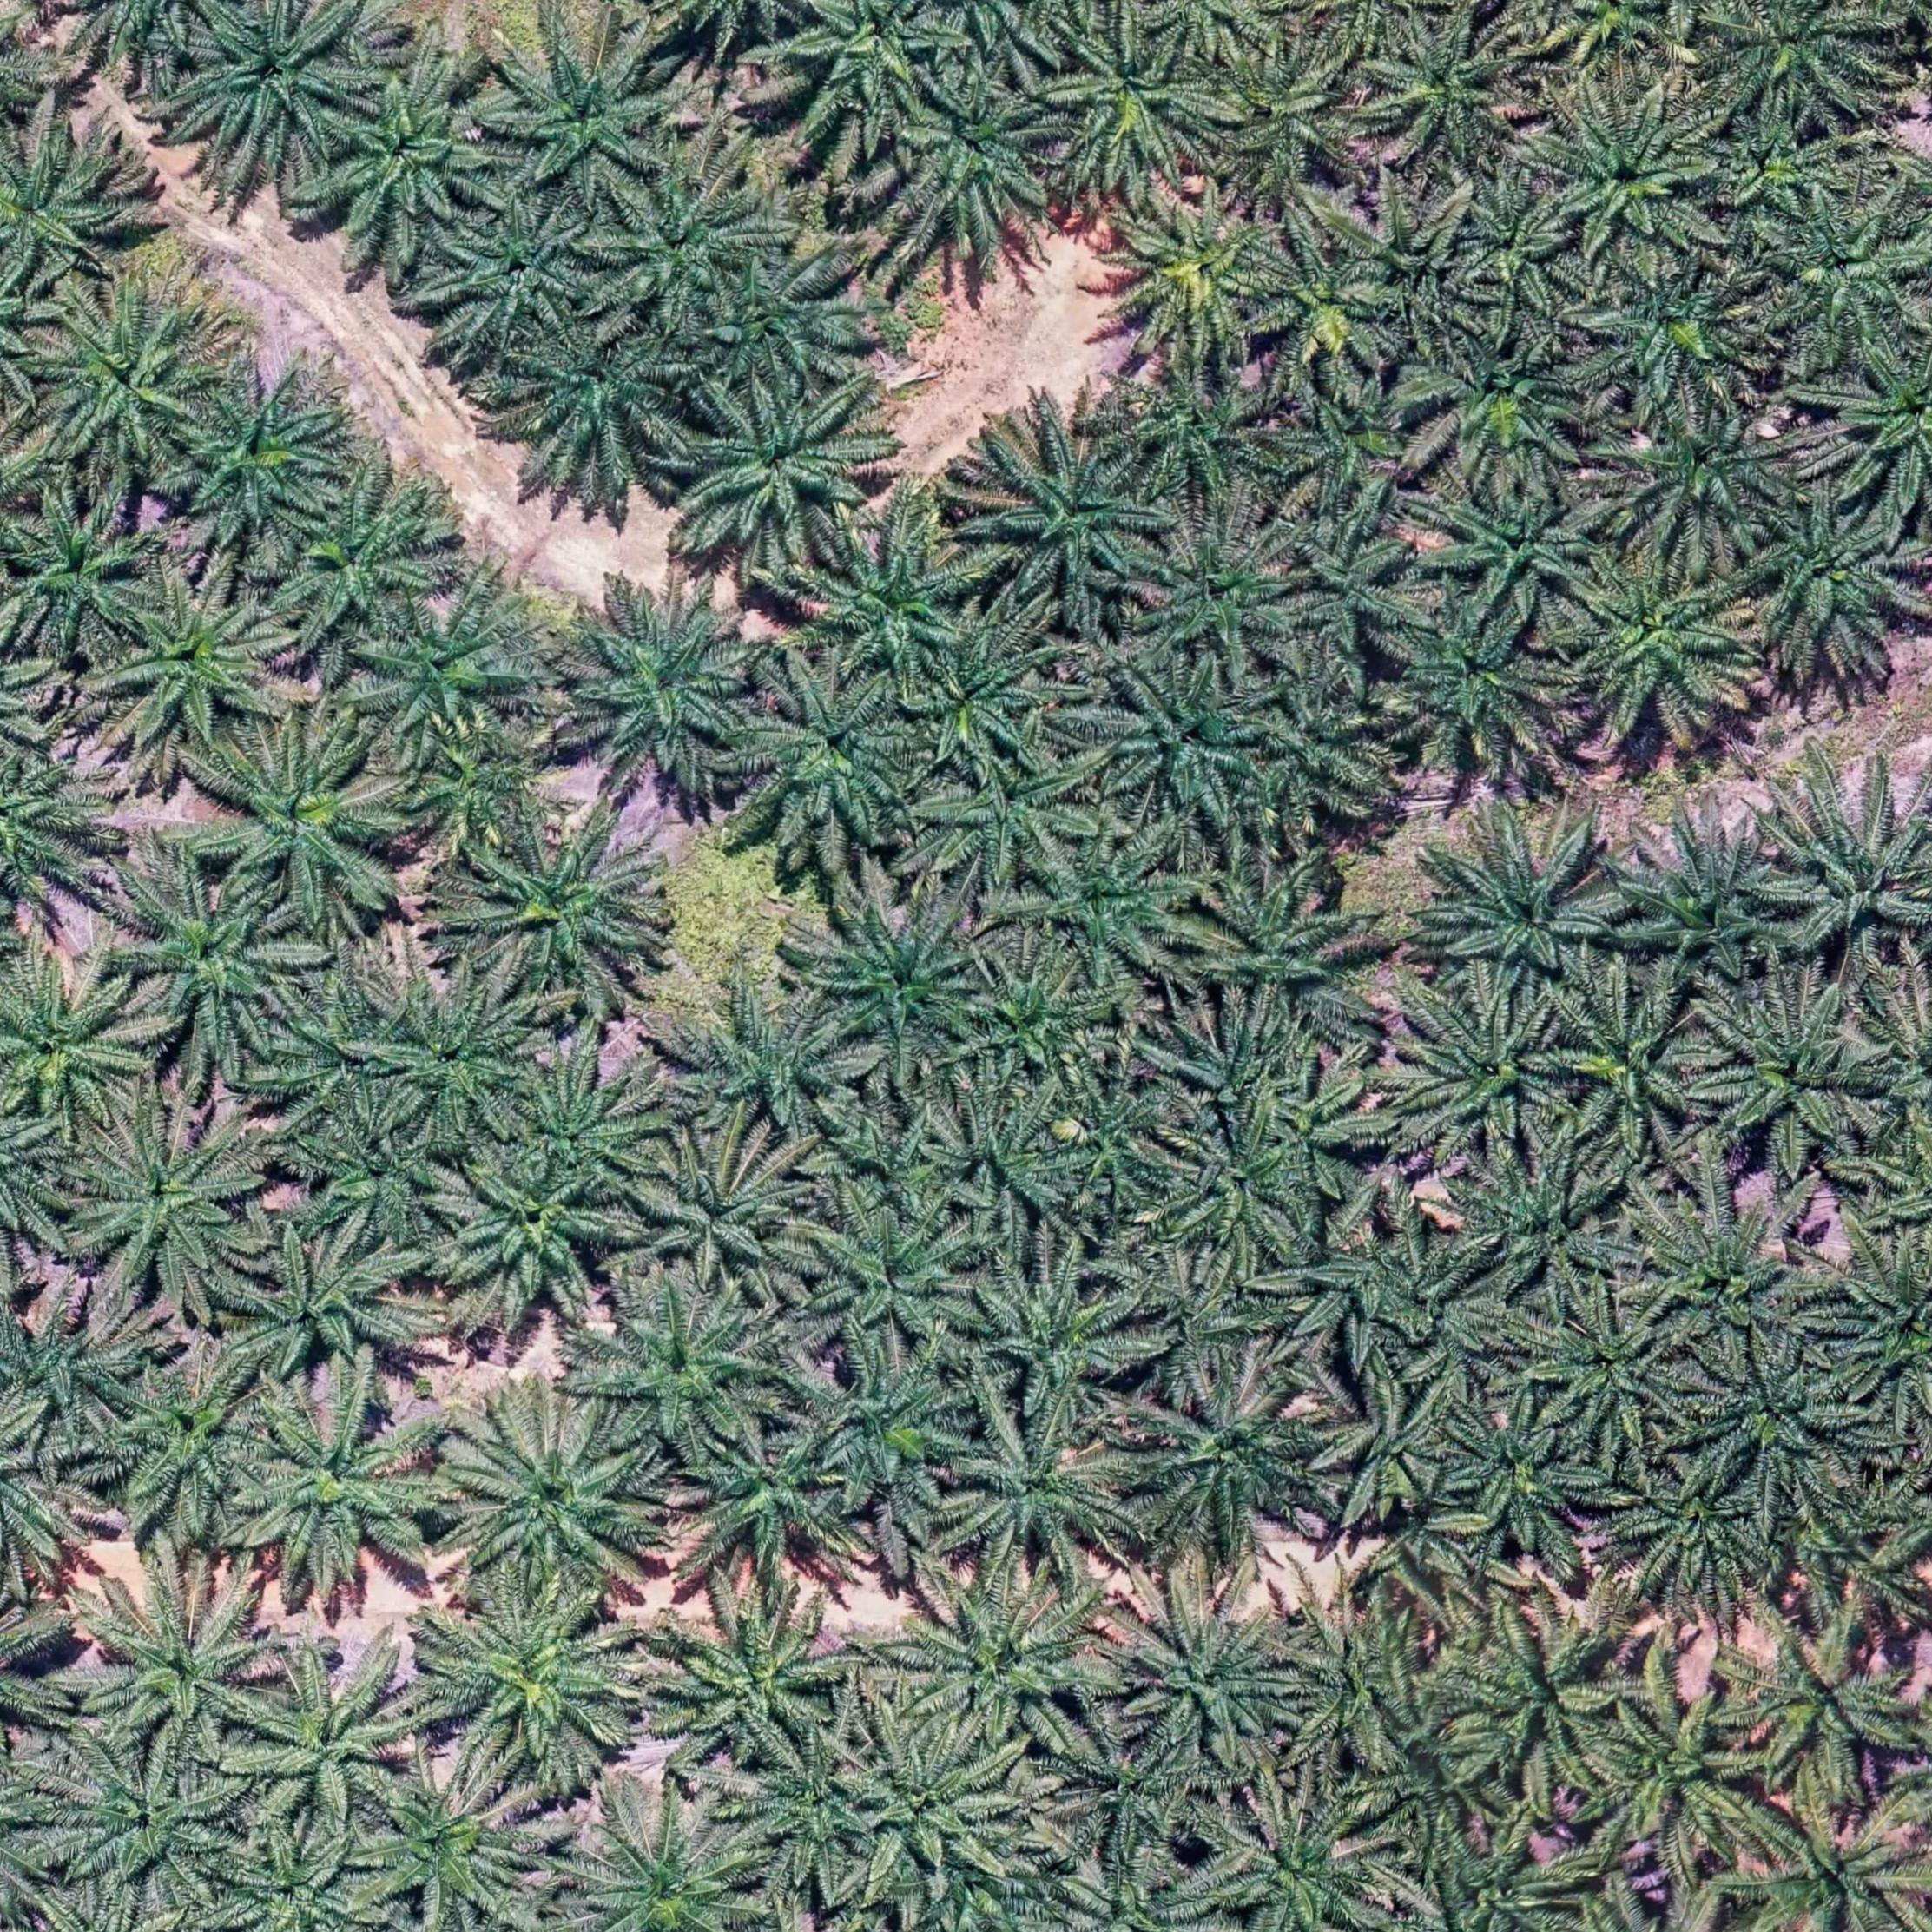palmtree: (442, 1396, 662, 1603), (425, 1587, 649, 1783), (561, 579, 764, 787), (200, 724, 410, 922), (234, 1394, 442, 1592), (888, 1571, 1109, 1757), (1419, 816, 1629, 1010), (73, 1108, 276, 1302), (83, 1566, 283, 1759), (1583, 1684, 1778, 1881), (1444, 1605, 1642, 1796), (1132, 1369, 1336, 1555), (1693, 985, 1890, 1175), (1272, 1219, 1488, 1391), (842, 1720, 1035, 1911), (117, 870, 315, 1056), (1559, 554, 1757, 738), (1185, 863, 1385, 1046), (676, 379, 878, 559), (35, 281, 226, 471), (978, 425, 1171, 612), (1113, 1587, 1306, 1775), (885, 64, 1070, 257), (469, 814, 663, 998), (656, 1594, 855, 1775), (1389, 985, 1585, 1166), (499, 313, 697, 490), (490, 23, 681, 205), (1044, 14, 1235, 196), (1387, 593, 1575, 777), (1100, 188, 1292, 368), (320, 65, 511, 244), (745, 667, 929, 847), (1732, 1621, 1918, 1799), (1631, 1191, 1821, 1366), (1615, 828, 1805, 1001), (1444, 1141, 1635, 1313), (1767, 780, 1932, 978), (237, 1652, 423, 1828), (589, 1290, 778, 1461), (665, 987, 867, 1148), (952, 1410, 1141, 1578), (188, 2, 379, 168), (794, 1201, 985, 1368), (809, 893, 991, 1065), (108, 579, 292, 748), (593, 159, 778, 327), (1412, 324, 1598, 492), (234, 1230, 425, 1392), (359, 1766, 550, 1928), (48, 1743, 241, 1904), (1608, 396, 1799, 557), (966, 1269, 1150, 1435), (168, 372, 347, 541), (274, 474, 455, 642), (361, 977, 541, 1145), (1201, 35, 1376, 207), (1539, 97, 1720, 264), (1093, 662, 1276, 826), (446, 1146, 628, 1311), (679, 1424, 865, 1585), (1741, 490, 1916, 660), (1546, 982, 1721, 1152), (356, 593, 541, 752), (1529, 1292, 1704, 1458), (1132, 510, 1309, 674), (1690, 1339, 1867, 1504), (635, 1134, 817, 1293), (1585, 258, 1771, 414), (803, 525, 980, 688), (1276, 1606, 1444, 1776), (1362, 11, 1532, 175), (433, 202, 612, 357), (108, 1359, 278, 1522), (1431, 474, 1608, 630), (800, 1345, 977, 1500), (561, 1801, 770, 1932), (1755, 198, 1927, 356), (692, 246, 867, 400), (1210, 1789, 1398, 1932), (1741, 1792, 1932, 1932), (1608, 1445, 1775, 1605), (895, 623, 1067, 777), (1272, 370, 1444, 522), (0, 959, 150, 1131), (1440, 1399, 1603, 1557), (1026, 830, 1196, 980), (11, 494, 168, 651), (932, 745, 1100, 892), (1125, 359, 1290, 506), (1056, 1723, 1221, 1870), (782, 0, 961, 134), (1281, 515, 1435, 669), (1334, 193, 1488, 347), (1118, 1254, 1283, 1398), (501, 1065, 665, 1207), (0, 741, 120, 934), (1711, 0, 1895, 126), (1378, 1824, 1591, 1932), (0, 126, 136, 294), (1162, 1116, 1315, 1267), (740, 1741, 892, 1890), (932, 1102, 1085, 1251), (0, 1299, 147, 1451), (400, 724, 561, 858), (1244, 685, 1399, 823), (962, 957, 1115, 1095), (310, 1122, 467, 1253), (1313, 1382, 1454, 1525), (1254, 239, 1398, 377), (1826, 1242, 1932, 1426), (1826, 341, 1932, 520), (1162, 1008, 1313, 1134), (1263, 1062, 1389, 1207), (214, 1829, 391, 1932), (1454, 173, 1587, 310), (817, 1102, 964, 1224), (1049, 1077, 1184, 1210), (1718, 108, 1856, 221)
